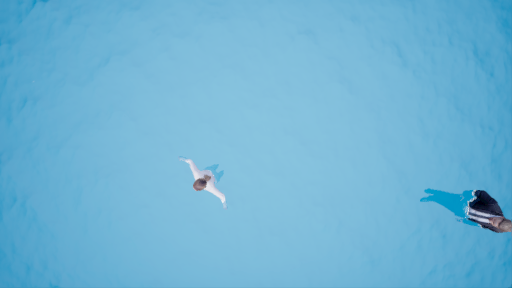person: (424, 184, 508, 239), (182, 159, 234, 209)
